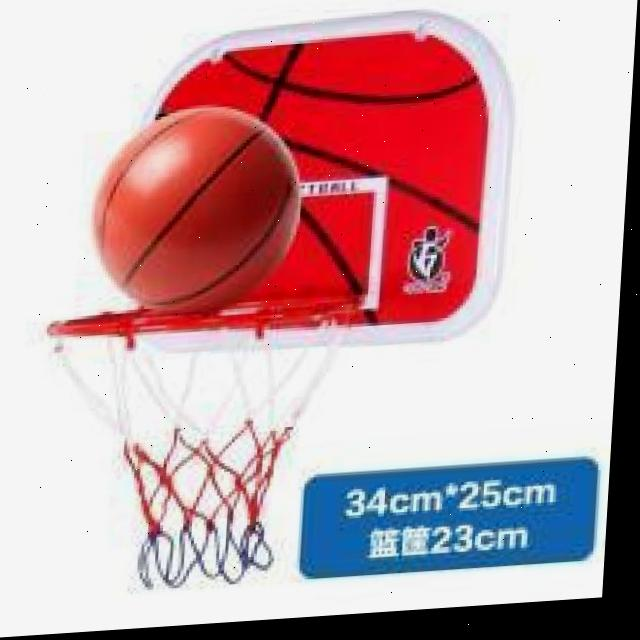rebound_hit: (85, 100, 310, 334)
